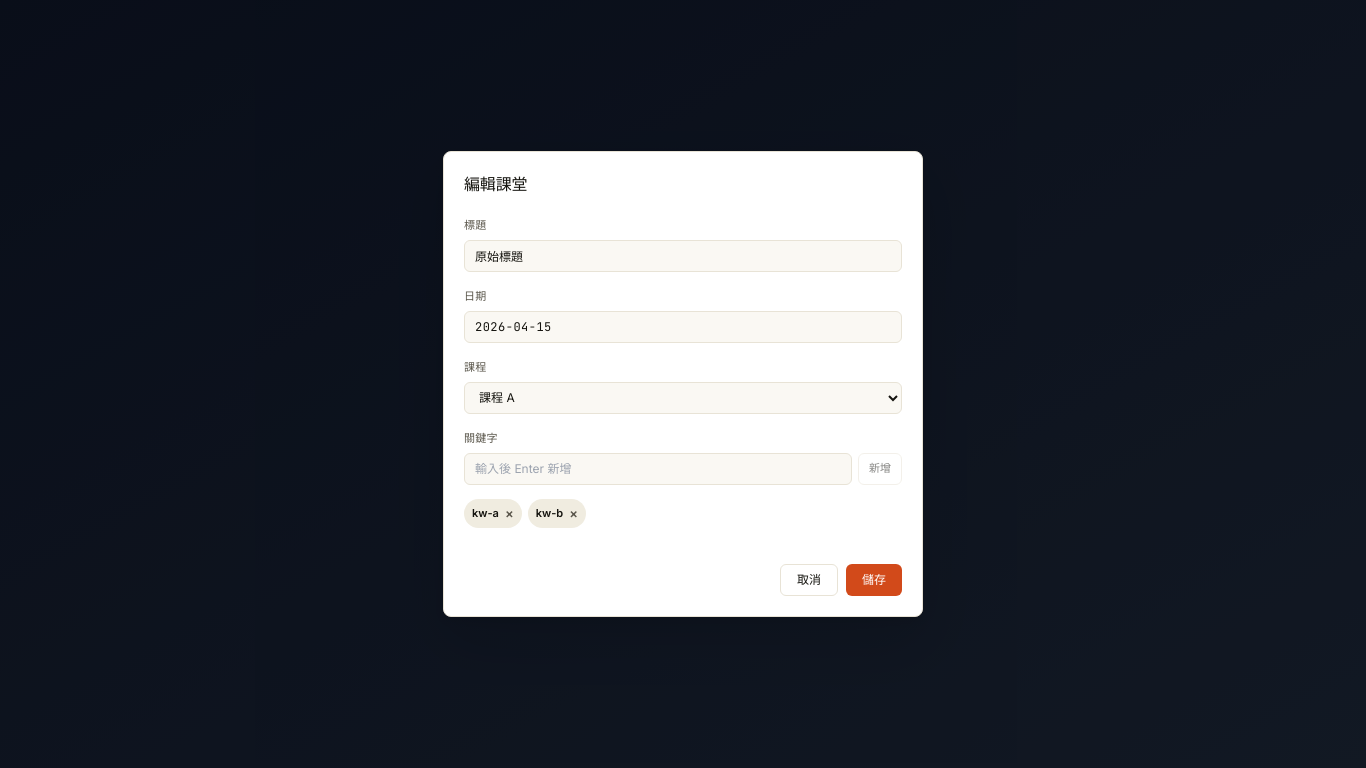
Scenario: LectureEditDialog › removes a keyword when its × is clicked
The image size is (1366, 768).
Check: the text "kw-a" is shown, box [472,506,499,520]
Click the button named "刪除 kw-a".
click(509, 514)  # box [505,507,514,520]
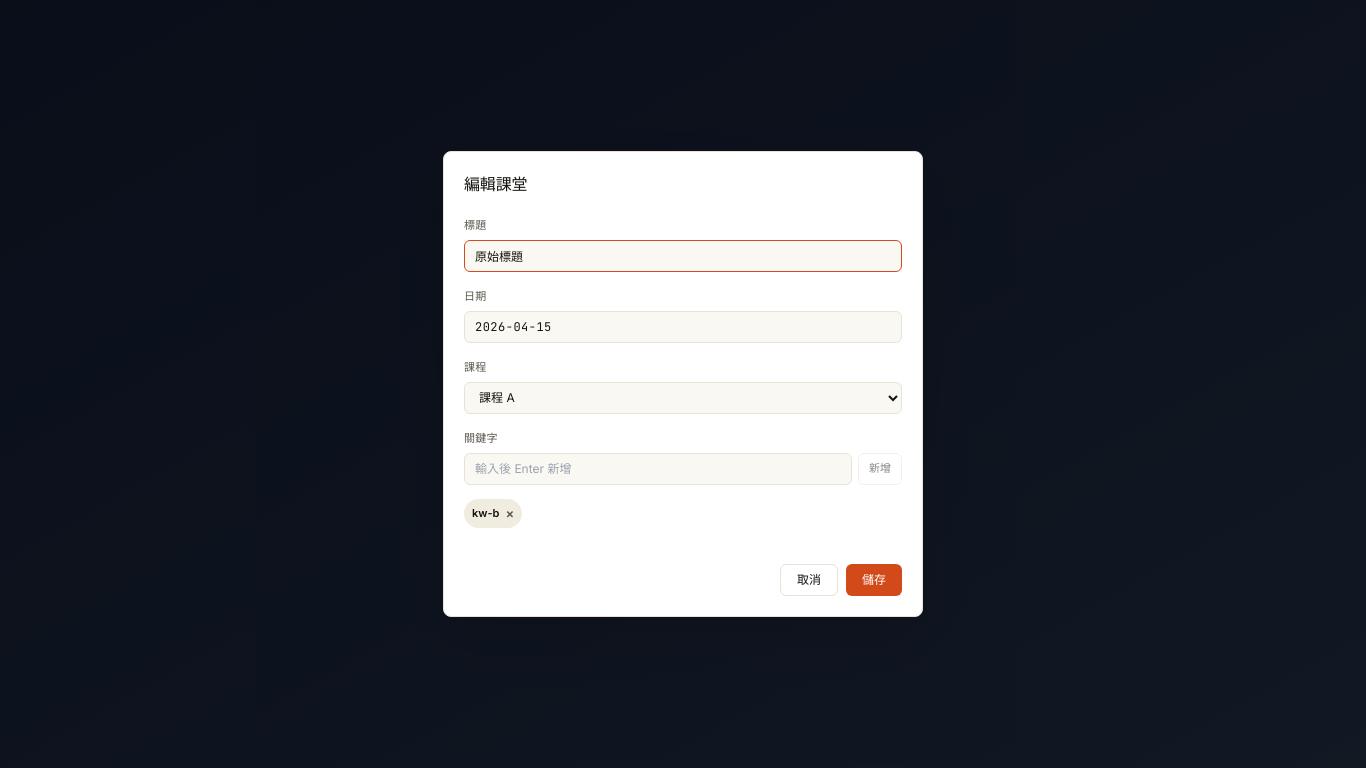
Check: the text "kw-b" is shown, box [472,506,500,520]
Check: the text "kw-a" is gone
